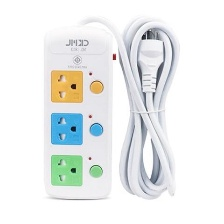three_eye_plug: (41, 19, 123, 202)
